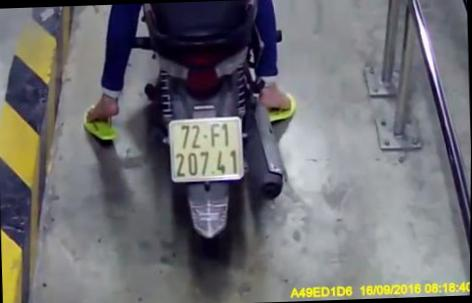LP: (168, 114, 244, 182)
